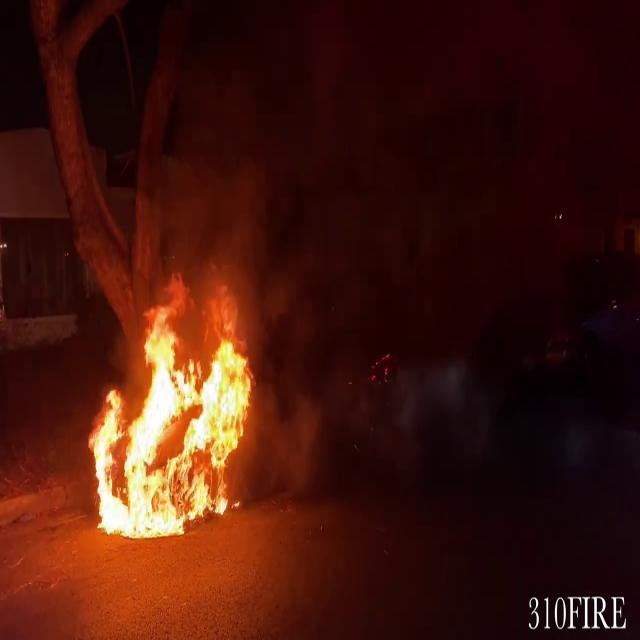Fire: (83, 305, 261, 543)
Smoke: (148, 36, 334, 309)
